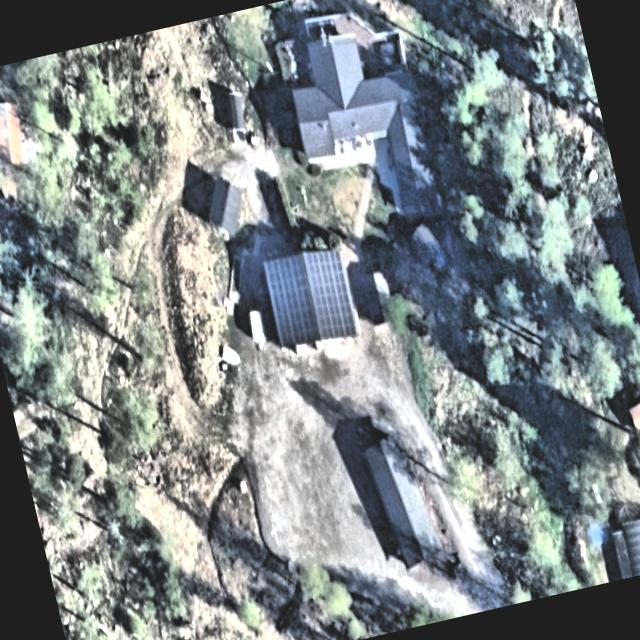roof_pv: (264, 253, 320, 349), (301, 246, 358, 340)
